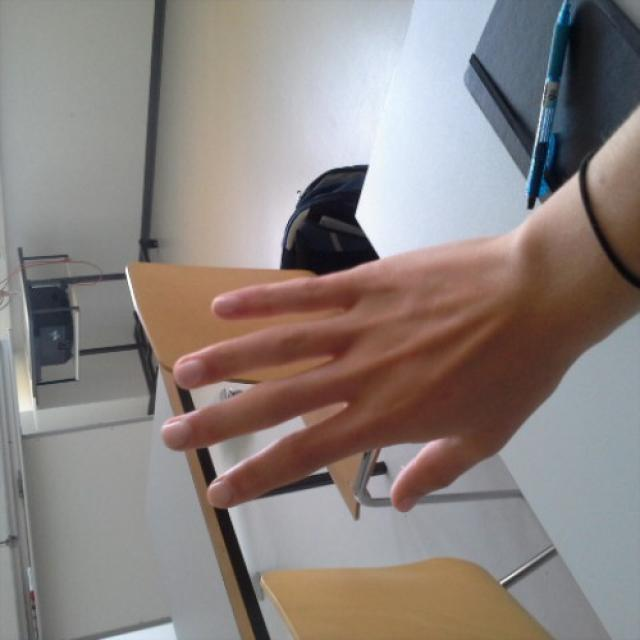paper: (161, 240, 551, 516)
